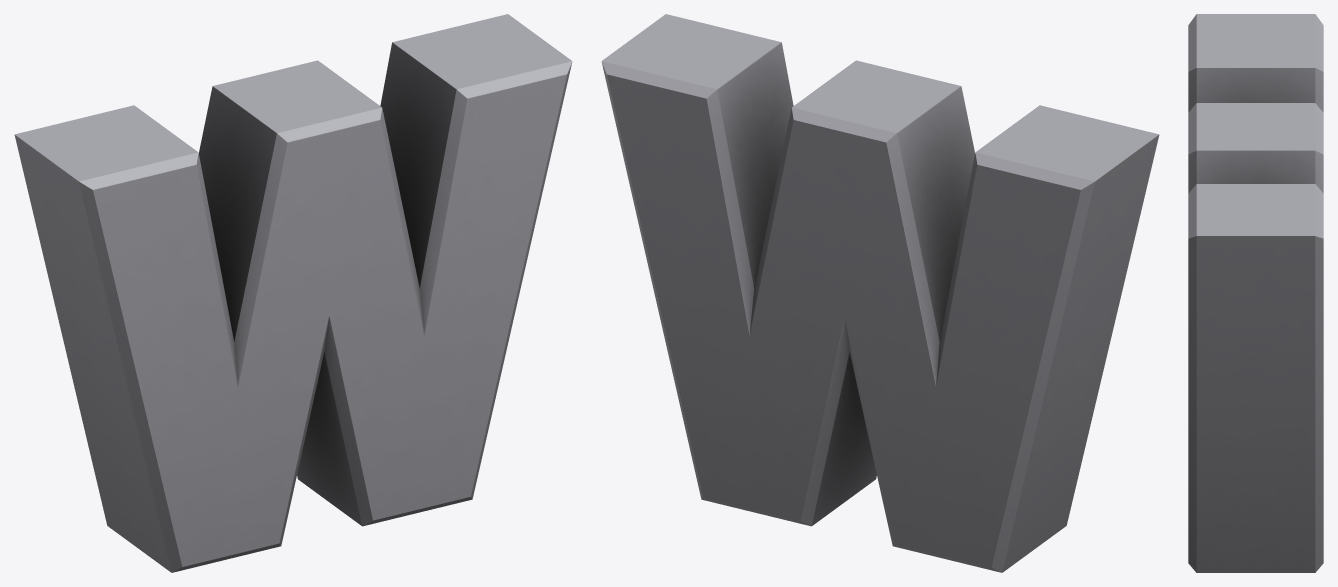
Rendered from W_static.fbx.
3 views of the same model, side by side, from view 1: azimuth 30°, elevation 25°; view 2: azimuth 150°, elevation 25°; view 3: azimuth 270°, elevation 25° (orthographic). The views are drawn at different scales.
Visible parts, largest first — view 1: W_static; view 2: W_static; view 3: W_static.
Boxes of the visible parts, x1=… form: W_static: x1=14, y1=14, x2=572, y2=572; W_static: x1=601, y1=14, x2=1159, y2=572; W_static: x1=1188, y1=14, x2=1323, y2=572.
Bounding box in the file's own units: 128 × 103 × 33.
